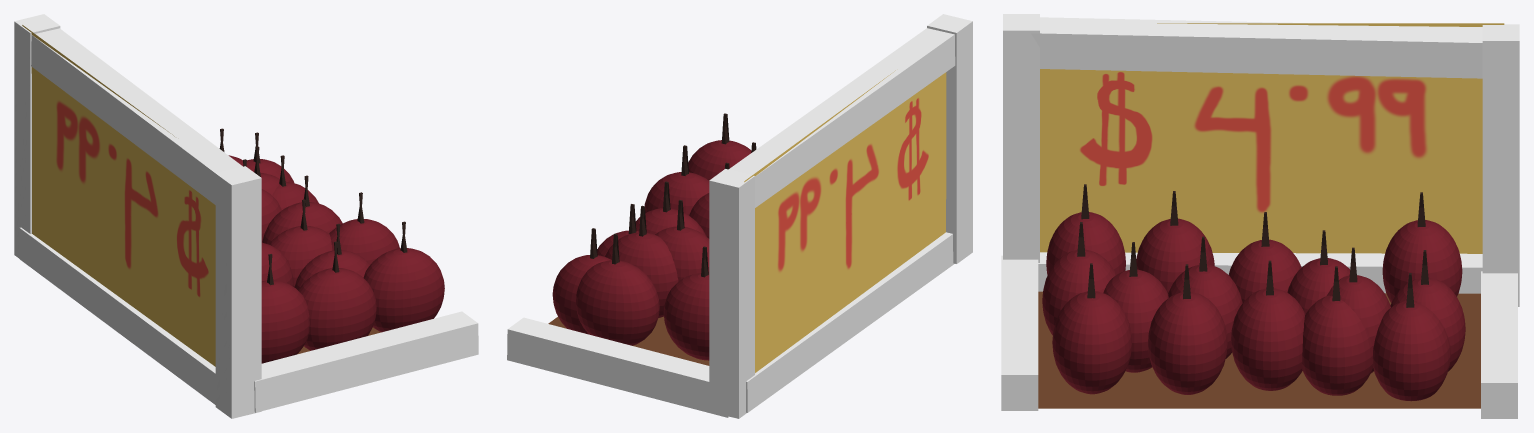
Rendered from ObjectForStalls_TJ.glb.
The picture shows the model from 3 angles, left to right: view 1: azimuth 30°, elevation 25°; view 2: azimuth 150°, elevation 25°; view 3: azimuth 270°, elevation 25°; orthographic projection. The views are drawn at different scales.
Visible parts, largest first — view 1: Plane.001, Cube.003, Cube.006, Cube, Cube.001, Sphere.010, Sphere.011, Cube.002, Sphere, Sphere.012, Sphere.006, Sphere.008 (+5 smaller); view 2: Plane.001, Cube.006, Cube.002, Cube.005, Cube.001, Cube.003, Sphere.009, Sphere.001, Sphere.003, Sphere.014, Sphere.004, Sphere.012 (+4 smaller); view 3: Plane.001, Cube.006, Plane, Cube.002, Cube.003, Sphere.010, Sphere.012, Sphere.014, Sphere.008, Cube, Sphere.013, Cube.005 (+11 smaller).
Part boxes in pixels (x1,y1,x2,y2): Plane.001: [22, 25, 215, 366]; Cube.003: [215, 166, 261, 418]; Cube.006: [31, 28, 242, 204]; Cube: [254, 311, 478, 412]; Cube.001: [19, 227, 215, 404]; Sphere.010: [363, 248, 444, 332]; Sphere.011: [298, 268, 376, 350]; Cube.002: [14, 14, 60, 258]; Sphere: [261, 280, 309, 363]; Sphere.012: [329, 219, 399, 264]; Sphere.006: [269, 225, 332, 286]; Sphere.008: [262, 202, 342, 244]; Plane.001: [744, 70, 946, 372]; Cube.006: [728, 28, 955, 207]; Cube.002: [709, 169, 754, 418]; Cube.005: [507, 317, 729, 417]; Cube.001: [746, 232, 954, 412]; Cube.003: [927, 14, 972, 263]; Sphere.009: [576, 260, 659, 345]; Sphere.001: [663, 273, 709, 360]; Sphere.003: [605, 232, 678, 317]; Sphere.014: [552, 255, 611, 334]; Sphere.004: [655, 226, 709, 281]; Sphere.012: [644, 172, 709, 215]; Plane.001: [1040, 23, 1504, 253]; Cube.006: [1031, 17, 1482, 78]; Plane: [1038, 291, 1480, 408]; Cube.002: [1482, 24, 1519, 306]; Cube.003: [1003, 14, 1039, 262]; Sphere.010: [1052, 291, 1132, 394]; Sphere.012: [1148, 292, 1227, 394]; Sphere.014: [1372, 301, 1450, 401]; Sphere.008: [1231, 288, 1305, 390]; Cube: [1001, 255, 1038, 410]; Sphere.013: [1302, 295, 1372, 395]; Cube.005: [1481, 271, 1517, 418].
Bounding box in the file's own units: 2.23 × 2.06 × 3.53.
6 materials, 4 textured.
